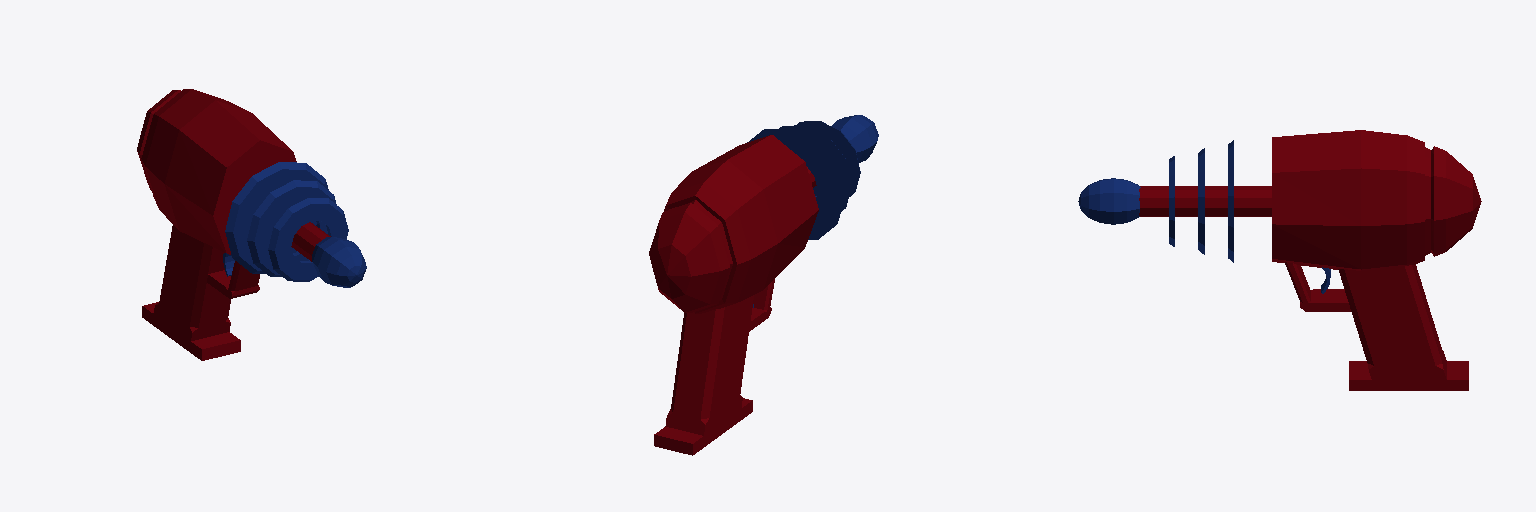
Rendered from Ray_Gun.obj.
The picture shows the model from 3 angles: view 1: azimuth 30°, elevation 25°; view 2: azimuth 150°, elevation 25°; view 3: azimuth 270°, elevation 25°; orthographic projection.
Visible parts, largest first — view 1: BASE, RAILS, HANDLE, COMPESATOR, TRIGGER_GUARD, BARREL; view 2: BASE, HANDLE, RAILS, COMPESATOR, TRIGGER_GUARD; view 3: BASE, HANDLE, BARREL, COMPESATOR, RAILS, TRIGGER_GUARD.
Part boxes in pixels (left/top/right/bottom): BASE: left=137, top=89, right=296, bottom=254; RAILS: left=225, top=162, right=348, bottom=281; HANDLE: left=142, top=225, right=240, bottom=360; COMPESATOR: left=312, top=237, right=366, bottom=287; TRIGGER_GUARD: left=207, top=261, right=259, bottom=298; BARREL: left=291, top=222, right=330, bottom=261; BASE: left=649, top=135, right=818, bottom=313; HANDLE: left=654, top=295, right=753, bottom=455; RAILS: left=747, top=121, right=860, bottom=239; COMPESATOR: left=831, top=115, right=878, bottom=162; TRIGGER_GUARD: left=749, top=279, right=774, bottom=331; BASE: left=1272, top=130, right=1481, bottom=270; HANDLE: left=1338, top=264, right=1468, bottom=390; BARREL: left=1139, top=186, right=1271, bottom=216; COMPESATOR: left=1078, top=178, right=1140, bottom=224; RAILS: left=1169, top=140, right=1233, bottom=262; TRIGGER_GUARD: left=1285, top=262, right=1350, bottom=311.
Size of the model in its own units: 1.66 by 3.71 by 5.38.